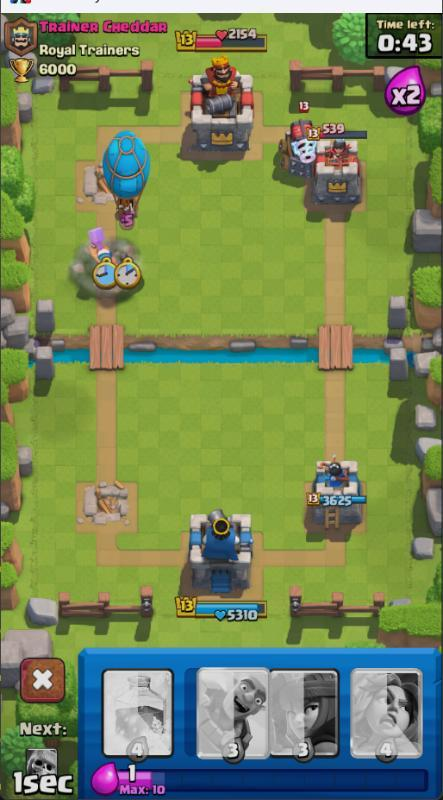enemy_sparky: (272, 117, 321, 177)
player_balloon: (96, 120, 158, 233)
player_lumberjack: (83, 220, 118, 292)
